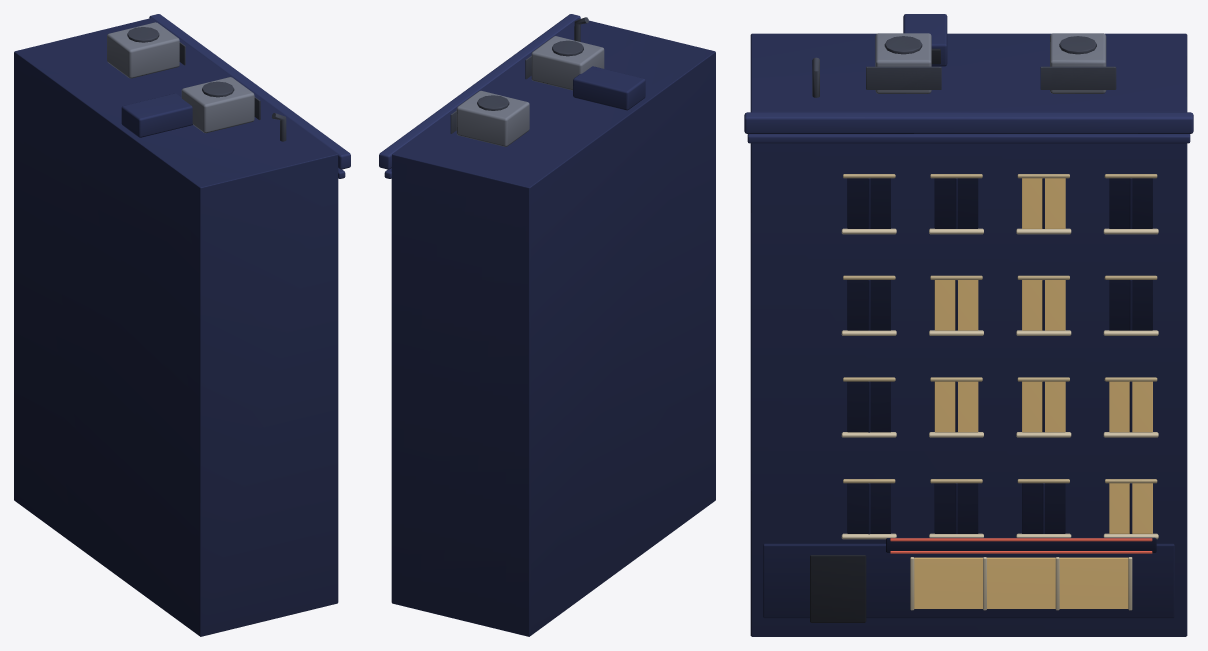
File: SM_Studio_StreetBlock_A.fbx
3 renders of one model, left to right at view 1: azimuth 30°, elevation 25°; view 2: azimuth 150°, elevation 25°; view 3: azimuth 270°, elevation 25°, orthographic. The views are drawn at different scales.
Visible parts, largest first — view 1: SM_Studio_StreetBlock_A; view 2: SM_Studio_StreetBlock_A; view 3: SM_Studio_StreetBlock_A.
Part boxes in pixels (x1,y1,x2,y2): SM_Studio_StreetBlock_A: [14, 14, 350, 636]; SM_Studio_StreetBlock_A: [379, 14, 715, 636]; SM_Studio_StreetBlock_A: [744, 14, 1193, 636].
Size of the model in its own units: 322 by 995 by 720.
